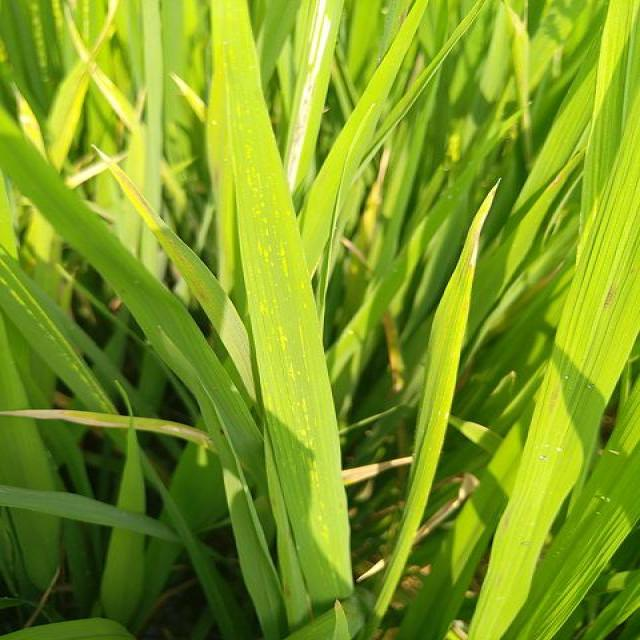Leaf Streak: (257, 238, 328, 557)
